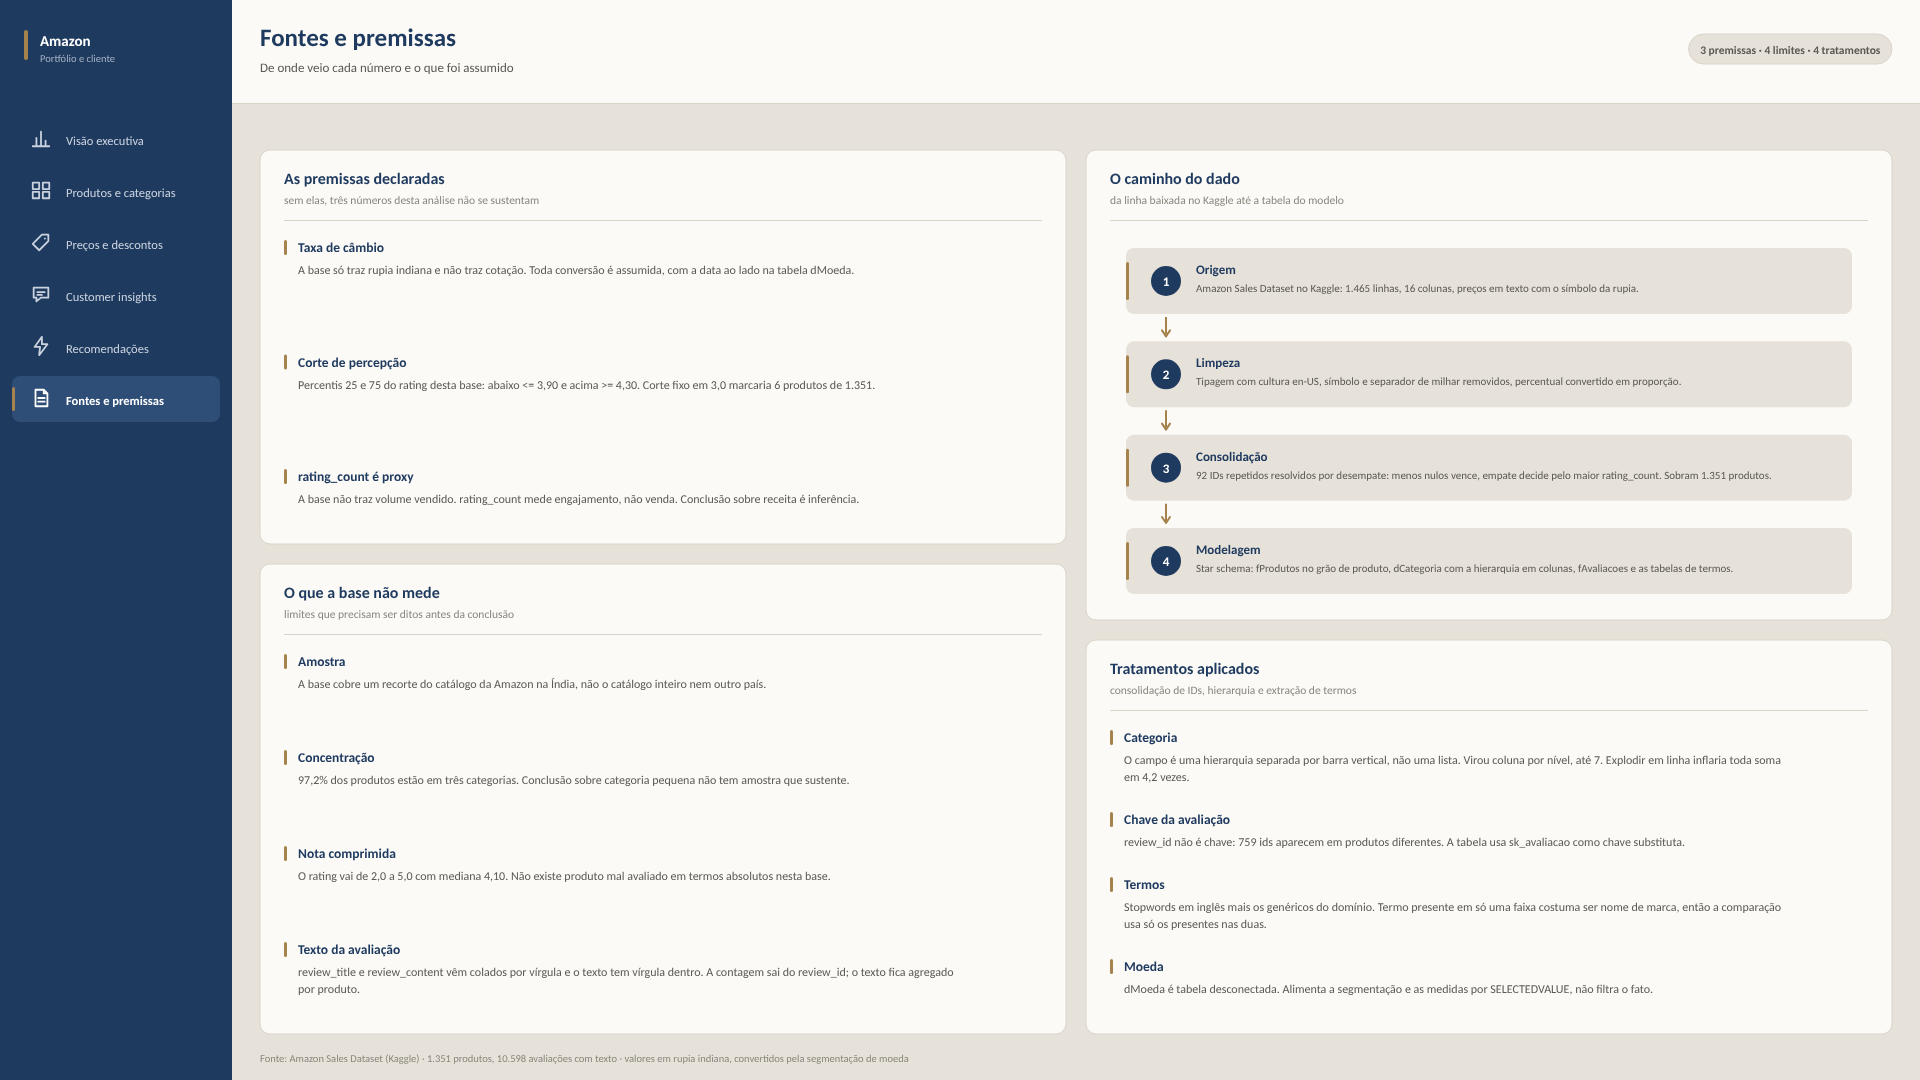

The dashboard page shown, as its layout file describes it:
{"tool":"powerbi","page":{"name":"Fontes e premissas","canvas":[1920,1080],"ordinal":5},"visuals":[{"type":"actionButton","box":[12,116,208,46],"z":20000},{"type":"actionButton","box":[12,168,208,46],"z":20001},{"type":"actionButton","box":[12,220,208,46],"z":20002},{"type":"actionButton","box":[12,272,208,46],"z":20003},{"type":"actionButton","box":[12,324,208,46],"z":20004}]}

Visuals, with their boxes on the page's 1920x1080 design canvas (x1, y1, x2, y2). These are canvas units, not pixel positions in the 1920x1080 screenshot, which may show the page scaled, cropped or inside an application window:
actionButton: locate(12, 116, 220, 162)
actionButton: locate(12, 168, 220, 214)
actionButton: locate(12, 220, 220, 266)
actionButton: locate(12, 272, 220, 318)
actionButton: locate(12, 324, 220, 370)
